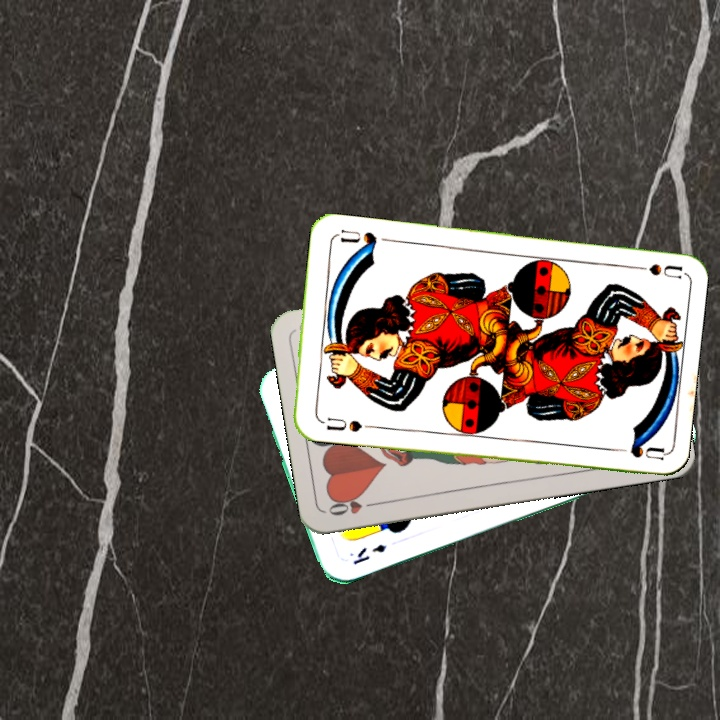EK: (349, 540, 390, 567)
HO: (324, 492, 383, 519)
SU: (623, 259, 683, 281), (315, 413, 365, 435)
